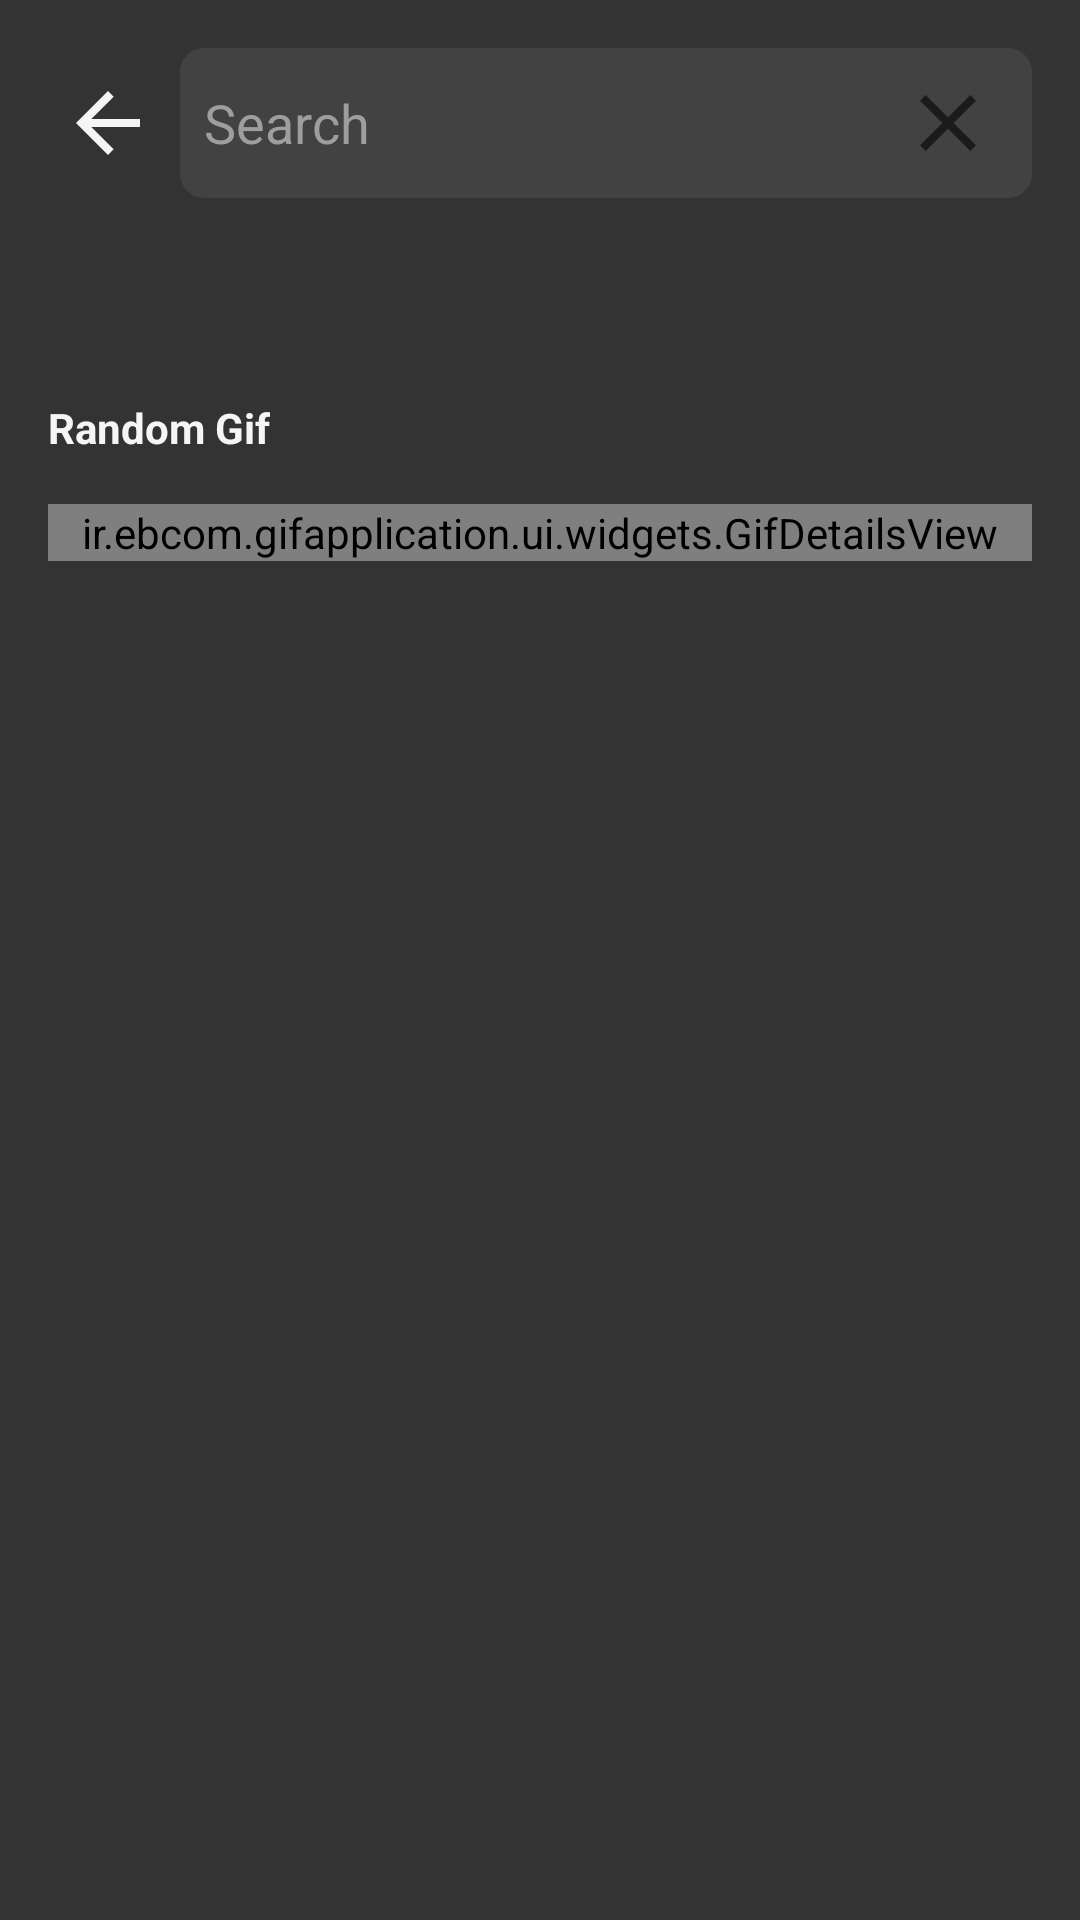

Where icons sit on this 1080 x 1920 app screen, as bbox(x1, y1, x2, y2):
arrow back: bbox(76, 91, 140, 155)
close: bbox(920, 95, 976, 151)
